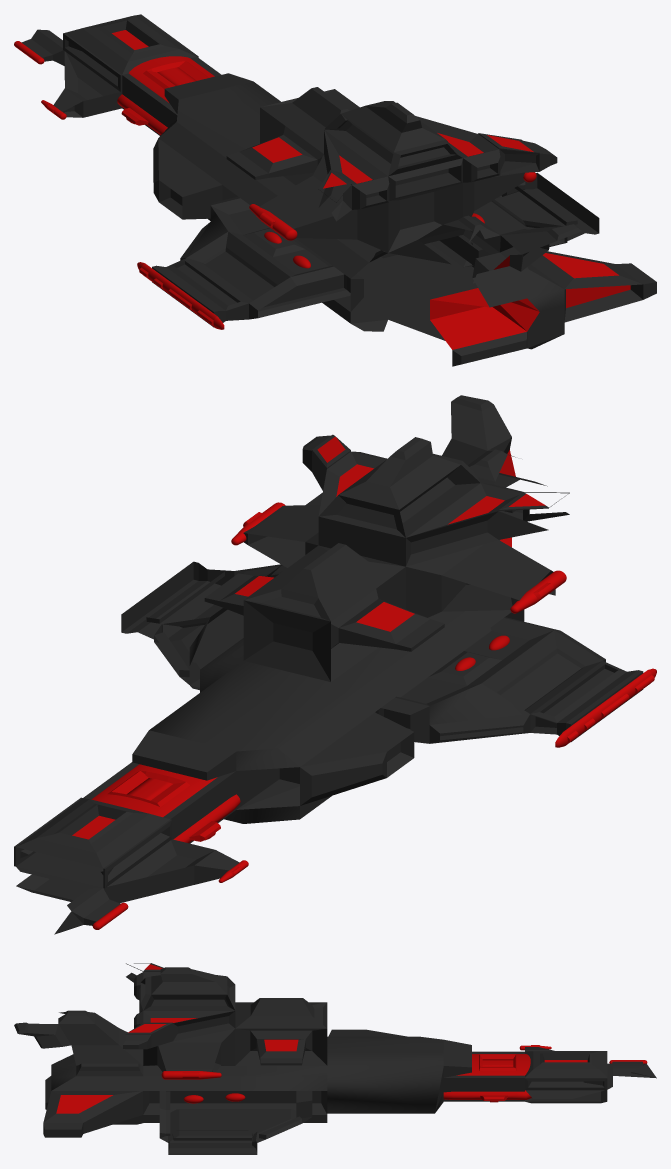
Rendered from EpaveMid.fbx.
3 views of the same model, one above another, from view 1: azimuth 30°, elevation 25°; view 2: azimuth 150°, elevation 25°; view 3: azimuth 270°, elevation 25° (orthographic). The views are drawn at different scales.
Visible parts, largest first — view 1: Box001.001; view 2: Box001.001; view 3: Box001.001.
Boxes of the visible parts, x1,y1,x2,y2 form: Box001.001: (14,14,656,366); Box001.001: (14,395,656,934); Box001.001: (14,963,656,1154).
Bounding box in the file's own units: 2.5 × 4.97 × 1.17.
